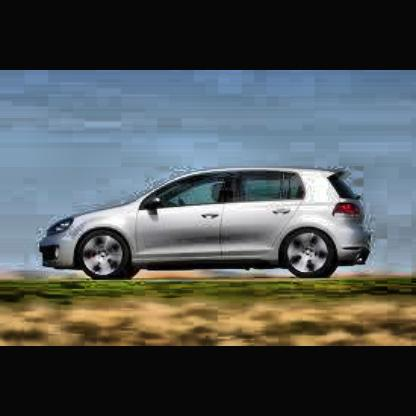Volkswagen Golf Hatchback 2012: (39, 167, 386, 278)
